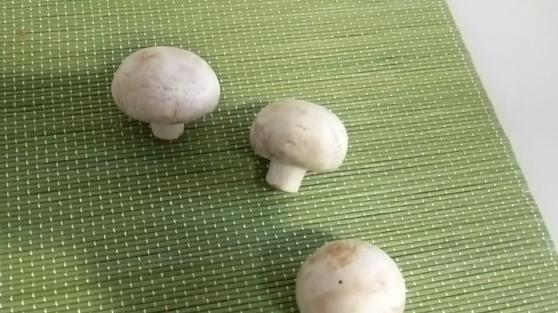champignon: (110, 48, 220, 141), (247, 99, 350, 192), (293, 240, 407, 313)
